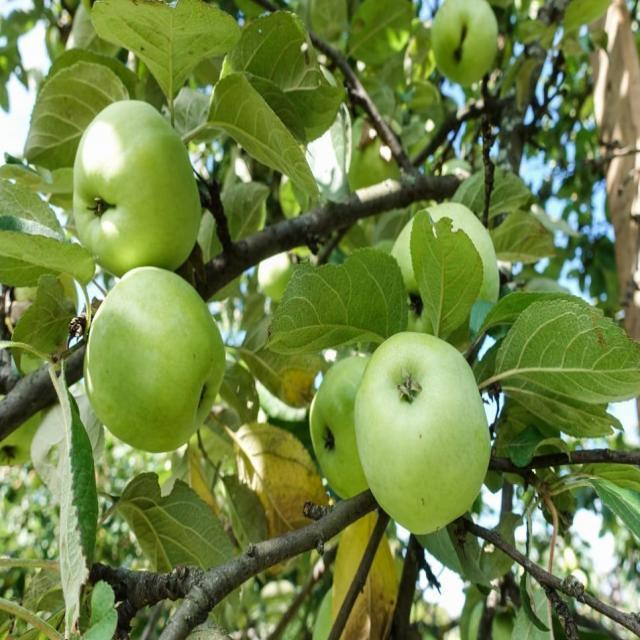Green Apple: (78, 259, 218, 462), (355, 336, 480, 537), (77, 97, 182, 271), (396, 194, 496, 339), (311, 353, 386, 491), (436, 3, 497, 88)
